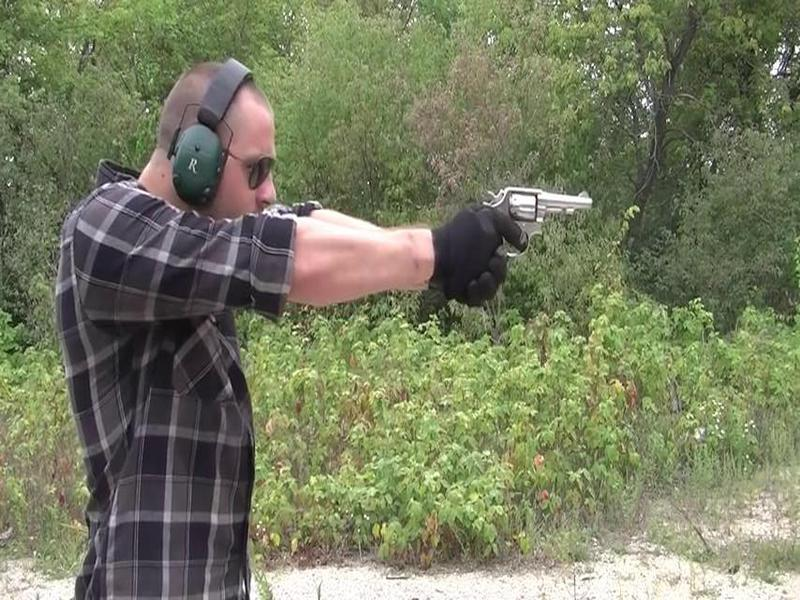Revolver: (471, 168, 597, 263)
